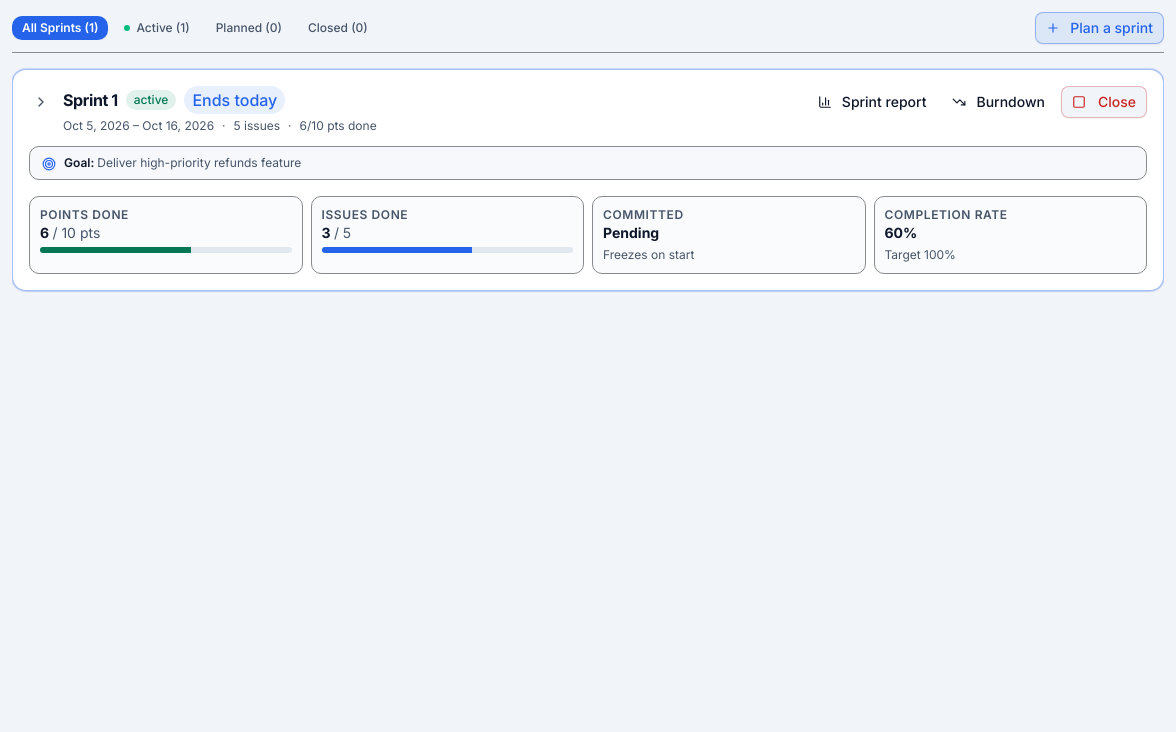
it: <SprintPanel> › renders progress metrics, goal banner, and switches to Activity & Timeline tab
Expected: the element "Sprint 1" is shown, left=12, top=69, right=1164, bottom=291
Expected: the text "Goal:" is shown, left=64, top=155, right=97, bottom=170
Expand sprint
Click the button named "Show issues of Sprint 1".
click(41, 102)  # box left=29, top=90, right=53, bottom=114
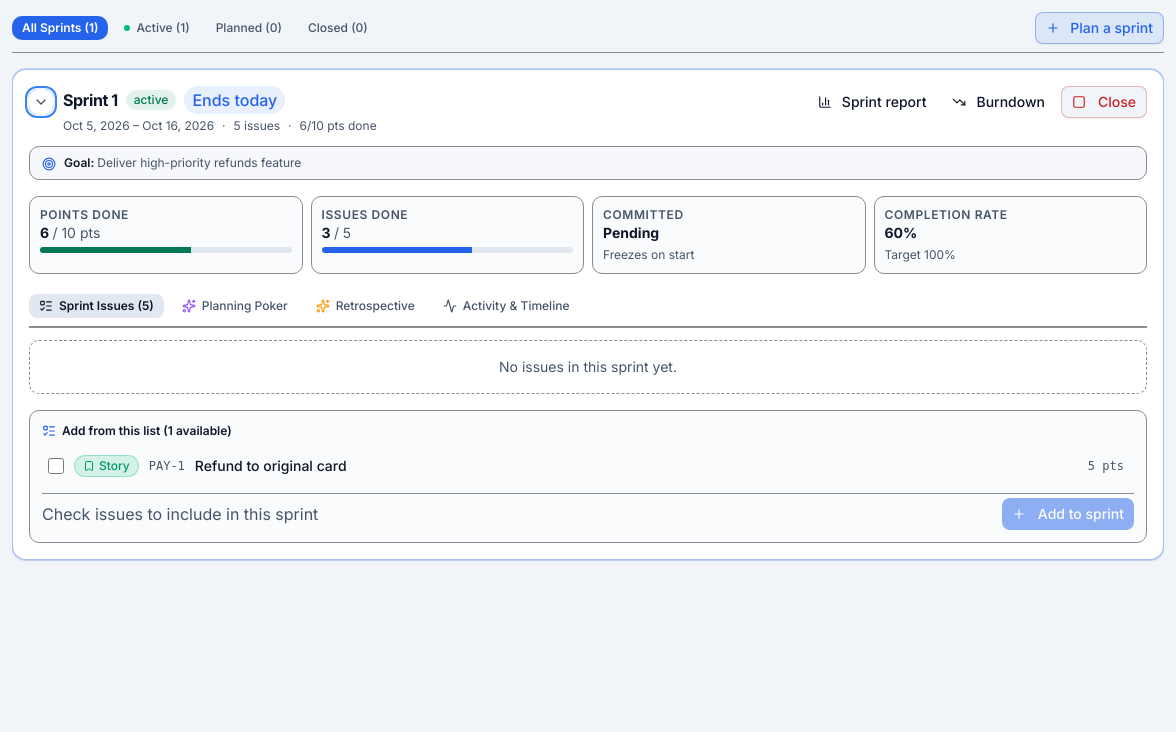
Switch to Activity & Timeline tab
Click the button "Activity & Timeline".
click(506, 306)  # box left=433, top=294, right=579, bottom=318
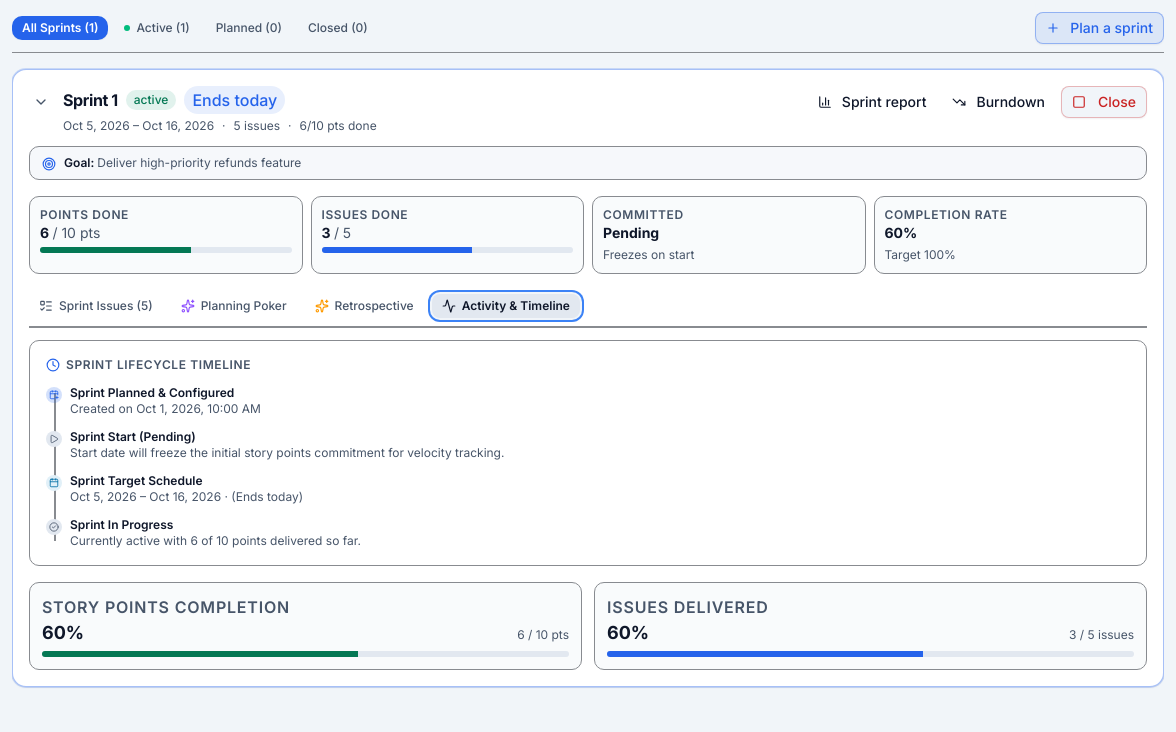
Now the text "Sprint Lifecycle Timeline" is shown, box left=66, top=357, right=251, bottom=373
Now the text "Sprint Planned & Configured" is shown, box left=70, top=385, right=234, bottom=400
Now the text "Story Points Completion" is shown, box left=42, top=597, right=290, bottom=617
